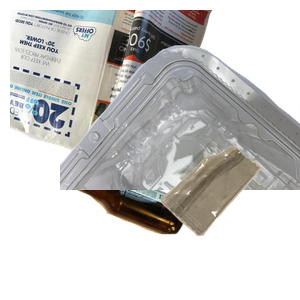glass: (60, 166, 241, 300)
paper: (10, 10, 215, 186)
plastic: (60, 43, 300, 223)
trash: (158, 144, 300, 300)
